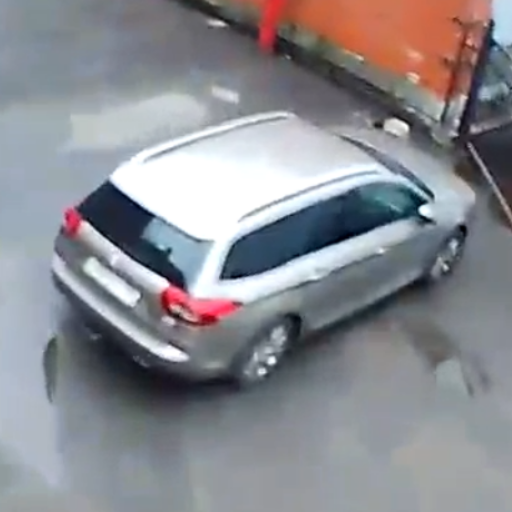Car: (44, 105, 474, 385)
